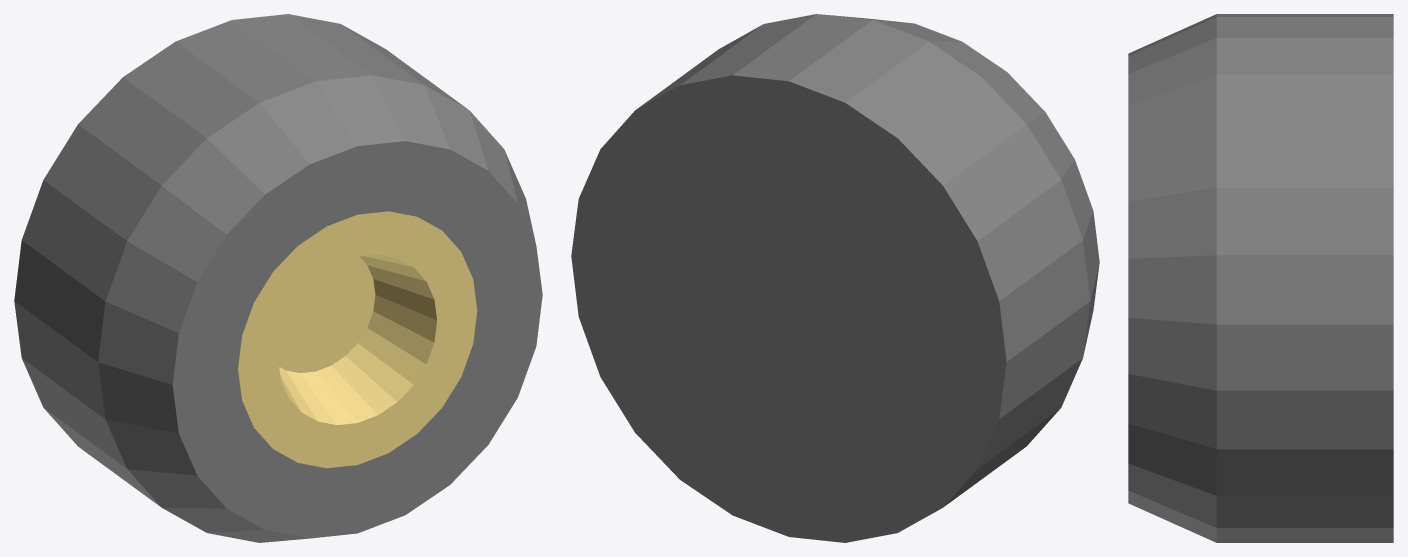
The model's file is Tire.dae.
3 views of the same model, side by side, from view 1: azimuth 30°, elevation 25°; view 2: azimuth 150°, elevation 25°; view 3: azimuth 270°, elevation 25° (orthographic). The views are drawn at different scales.
Parts seen in each view (by area): view 1: wheelTractorFront; view 2: wheelTractorFront; view 3: wheelTractorFront.
Boxes of the visible parts, left/top/right/bottom form: wheelTractorFront: left=14, top=14, right=542, bottom=542; wheelTractorFront: left=571, top=14, right=1099, bottom=542; wheelTractorFront: left=1128, top=14, right=1393, bottom=542.
Bounding box in the file's own units: 0.4039 × 0.202 × 0.4039.
